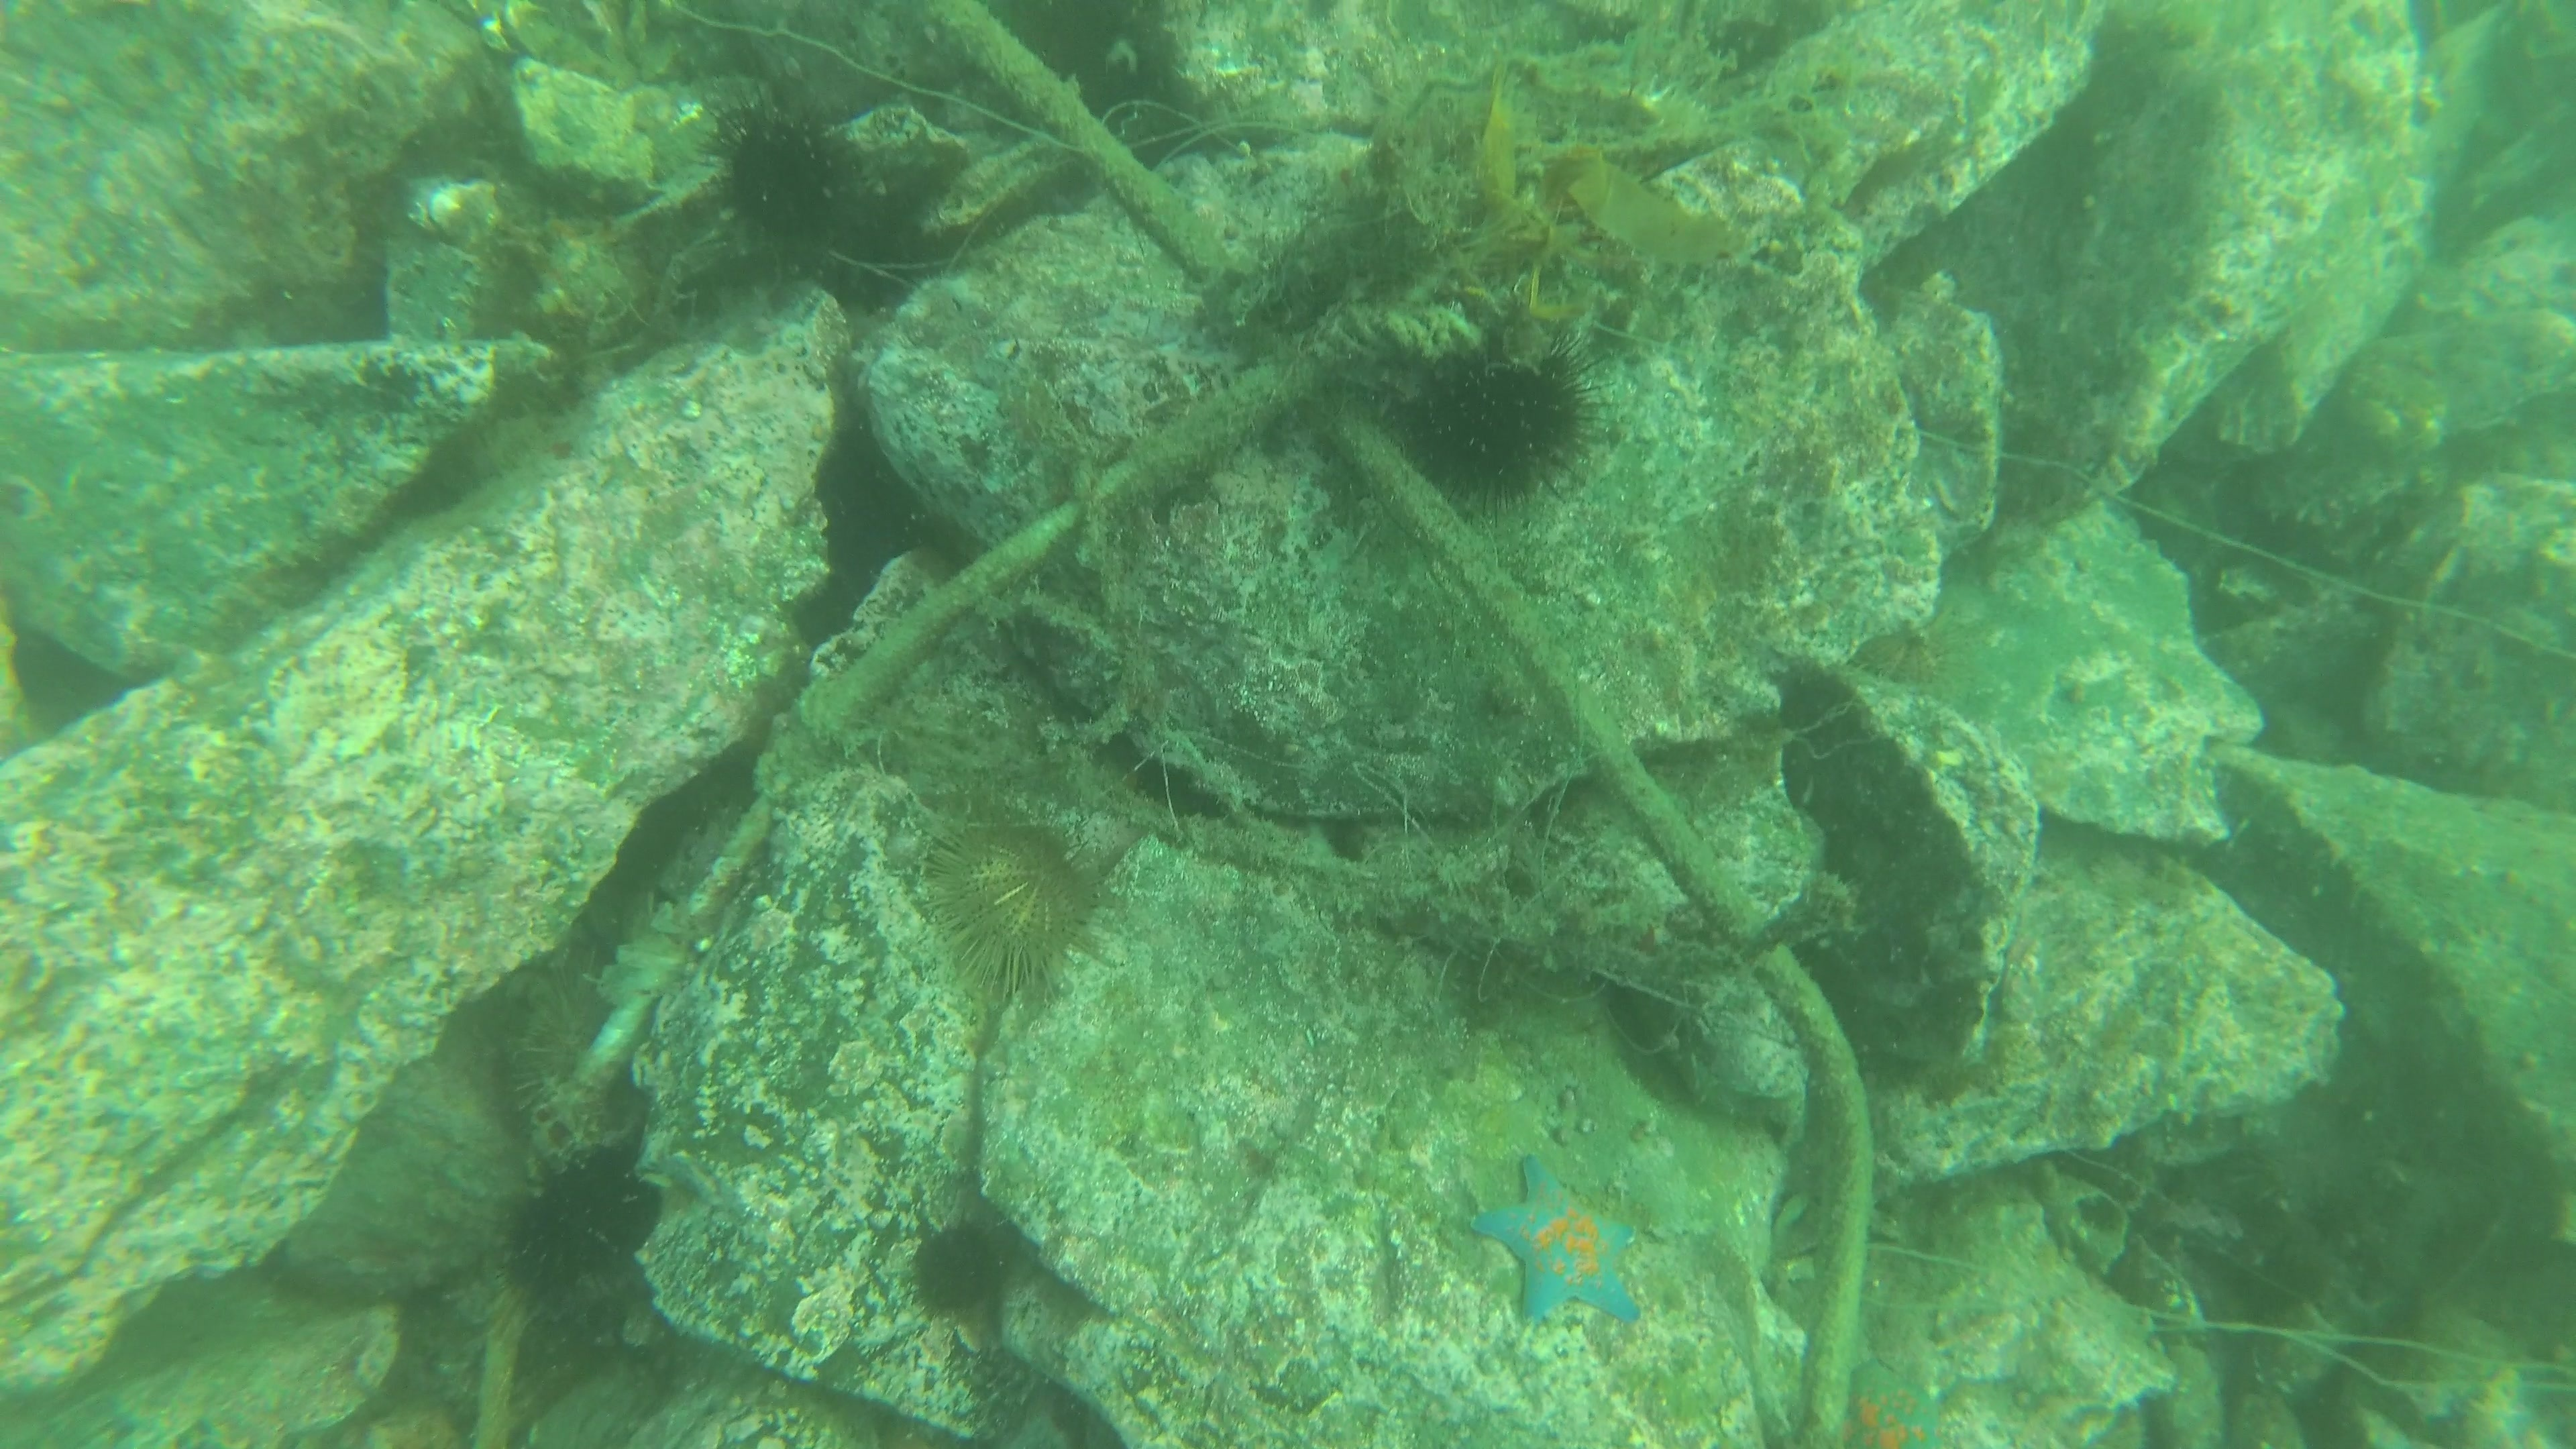echinus: (913, 809, 1104, 996), (1396, 334, 1599, 508), (495, 1139, 665, 1300), (499, 966, 637, 1159), (702, 96, 860, 253), (901, 1212, 1017, 1329), (1865, 600, 1951, 692)
starfish: (1463, 1152, 1652, 1334), (1831, 1353, 1959, 1442)
